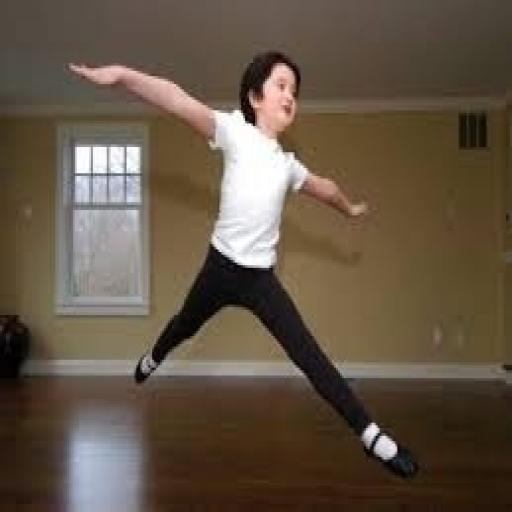dancing: (65, 47, 425, 483)
